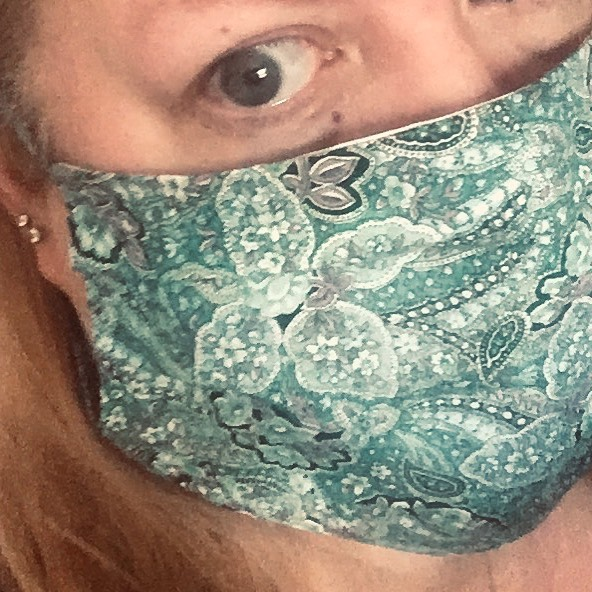homemade: (33, 121, 592, 545)
